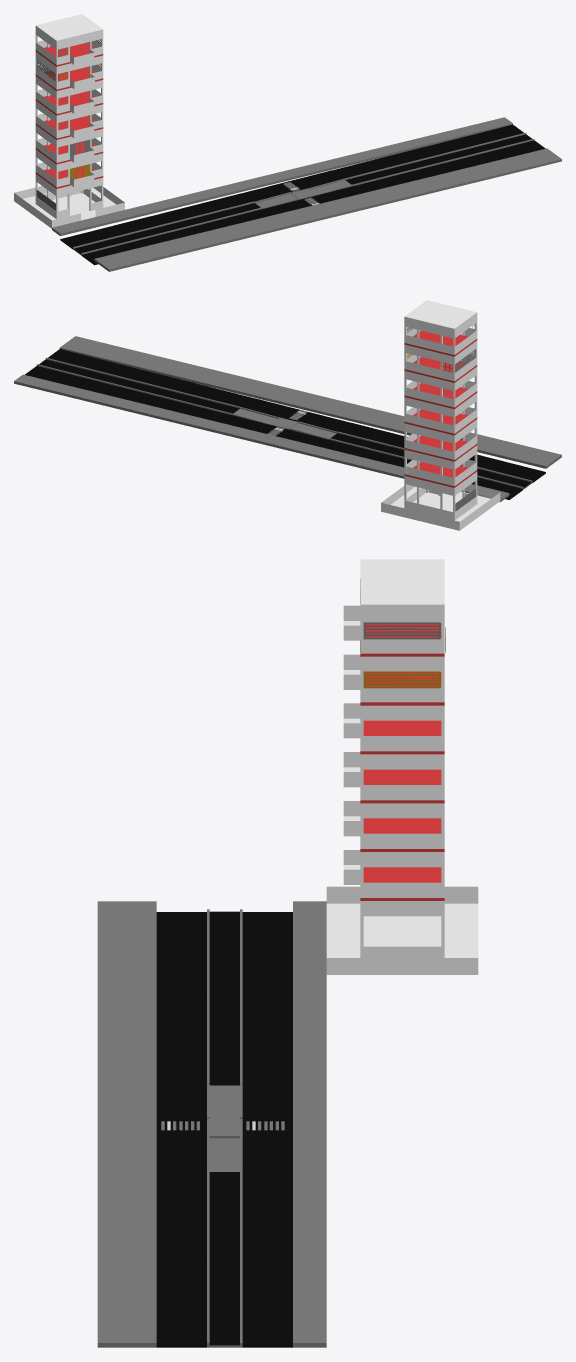
File: building type blacony wind 1.fbx
3 views of the same model, one above another, from view 1: azimuth 30°, elevation 25°; view 2: azimuth 150°, elevation 25°; view 3: azimuth 270°, elevation 25° (orthographic). The views are drawn at different scales.
Visible parts, largest first — view 1: road_2, BUILDING_TYPE_X, door; view 2: road_2, BUILDING_TYPE_X; view 3: road_2, BUILDING_TYPE_X, windows, windows_Instance_1.
Part boxes in pixels (left/top/right/bottom): road_2: left=36, top=117, right=561, bottom=271; BUILDING_TYPE_X: left=14, top=14, right=124, bottom=228; door: left=70, top=139, right=90, bottom=179; road_2: left=14, top=336, right=561, bottom=511; BUILDING_TYPE_X: left=381, top=300, right=500, bottom=530; road_2: left=97, top=901, right=326, bottom=1347; BUILDING_TYPE_X: left=326, top=559, right=478, bottom=974; windows: left=363, top=671, right=440, bottom=688; windows_Instance_1: left=363, top=622, right=440, bottom=639.
Size of the model in its own units: 6207 by 2410 by 2260.
